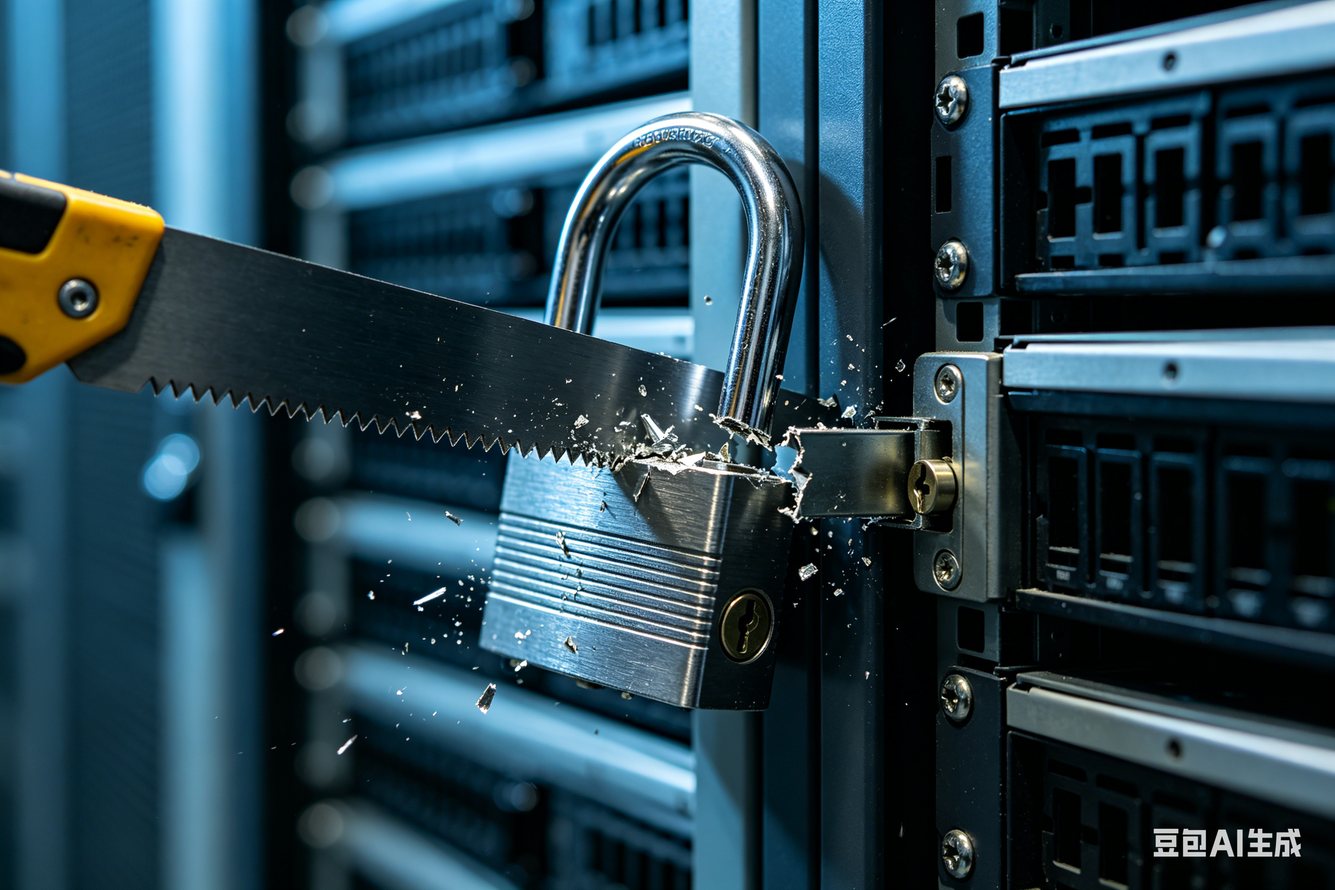BadLock: (574, 361, 965, 539)
